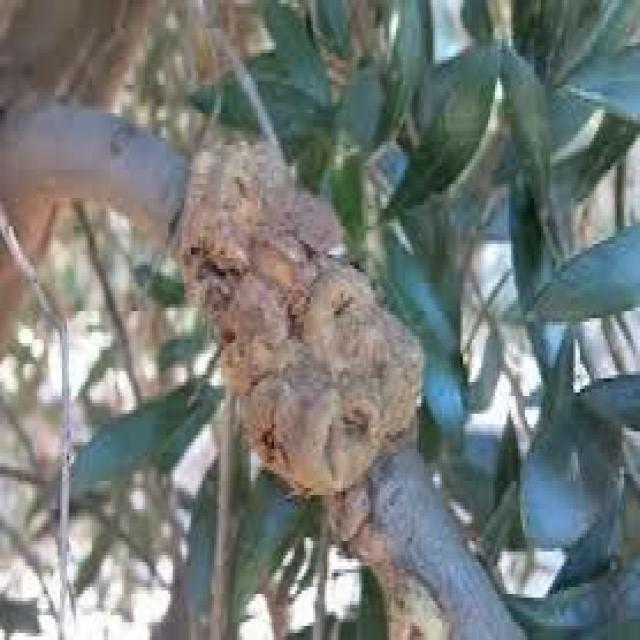Tuberculosis: (184, 141, 466, 636)
